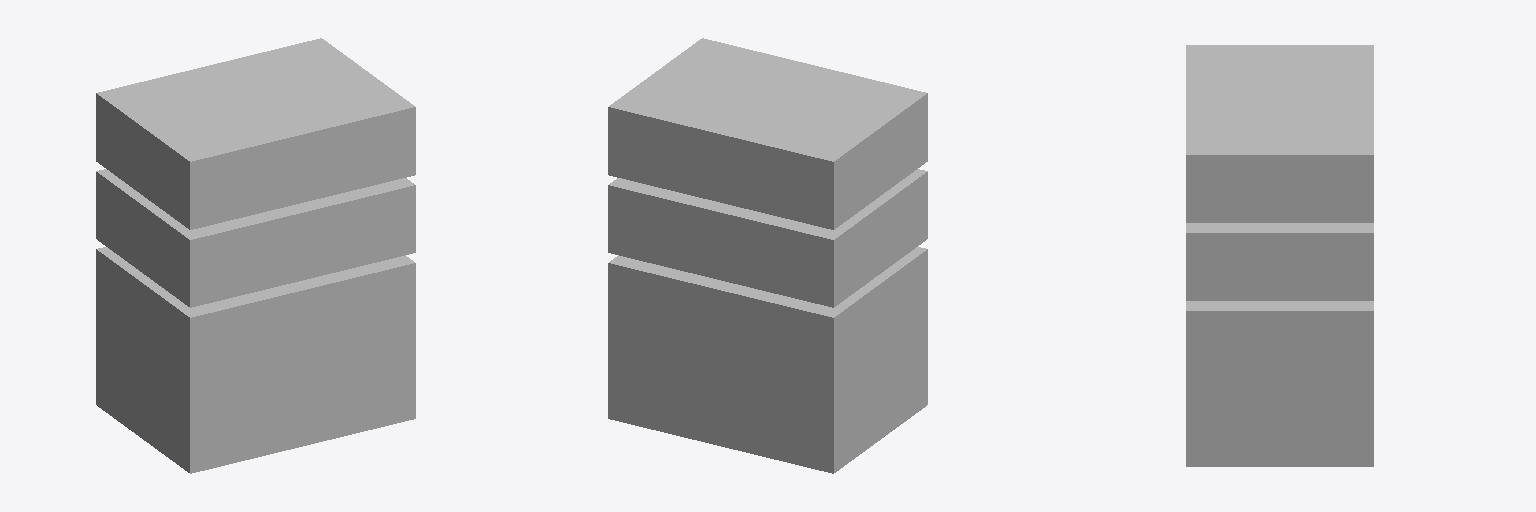
File: skyscraper_blocks.obj
The picture shows the model from 3 angles: view 1: azimuth 30°, elevation 25°; view 2: azimuth 150°, elevation 25°; view 3: azimuth 270°, elevation 25°; orthographic projection.
Size of the model in its own units: 25.35 by 33.49 by 18.31.